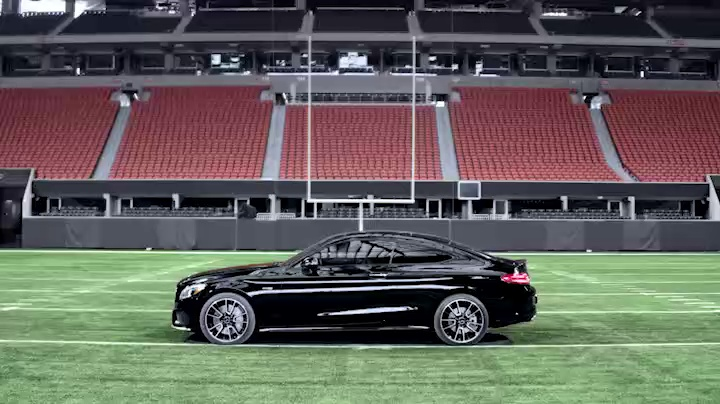amg: (170, 231, 541, 341)
